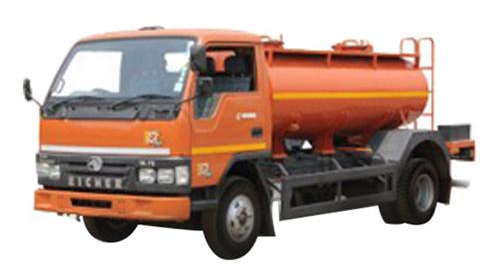truck: (18, 12, 477, 271)
